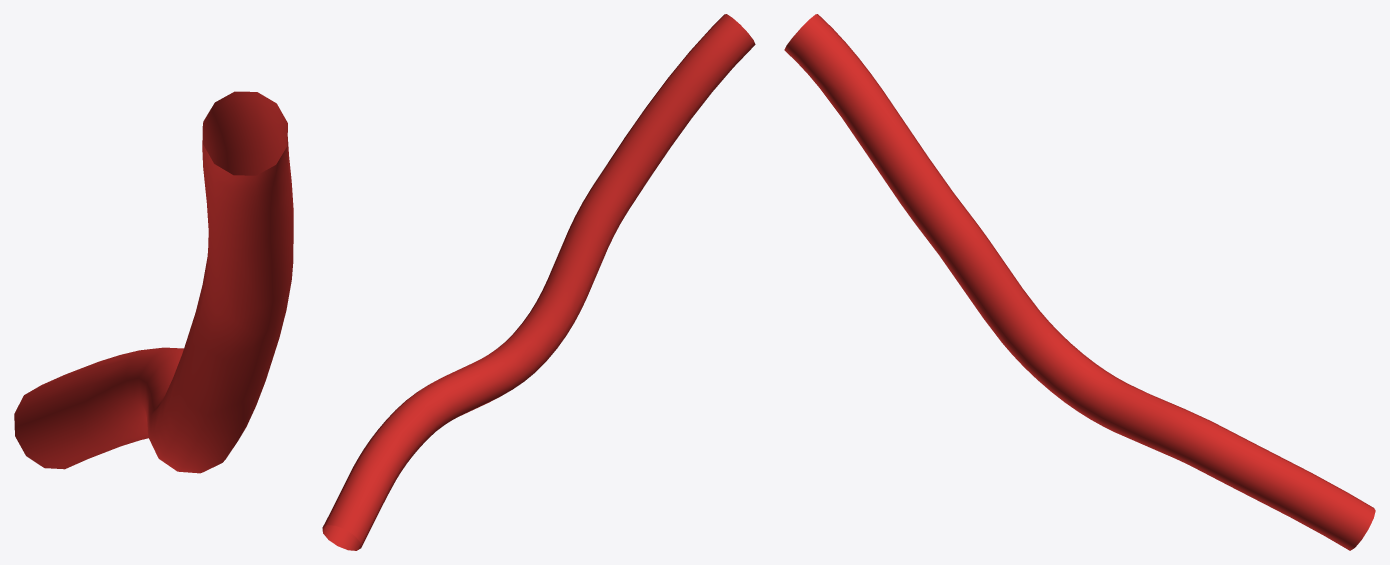
The model's file is circulatorio-deep-plantar-artery-l.glb.
3 renders of one model, left to right at view 1: azimuth 30°, elevation 25°; view 2: azimuth 150°, elevation 25°; view 3: azimuth 270°, elevation 25°, orthographic. The views are drawn at different scales.
Visible parts, largest first — view 1: Deep plantar artery.l; view 2: Deep plantar artery.l; view 3: Deep plantar artery.l.
Part boxes in pixels (x1=…): Deep plantar artery.l: x1=14, y1=91, x2=293, y2=473; Deep plantar artery.l: x1=322, y1=14, x2=755, y2=550; Deep plantar artery.l: x1=784, y1=14, x2=1375, y2=550.
Bounding box in the file's own units: 0.00896 × 0.018 × 0.0214.
